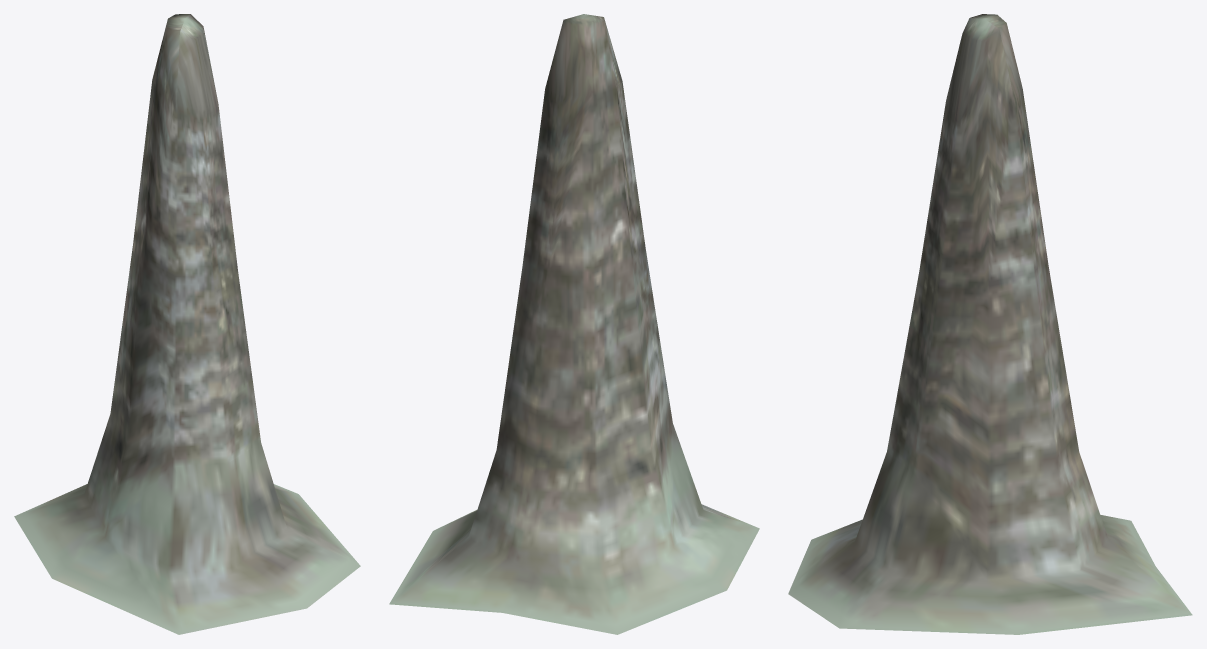
File: TROLLHOLE02_PS-MAINSTALAG41.fbx
The picture shows the model from 3 angles, left to right: view 1: azimuth 30°, elevation 25°; view 2: azimuth 150°, elevation 25°; view 3: azimuth 270°, elevation 25°; orthographic projection. The views are drawn at different scales.
Visible parts, largest first — view 1: TROLLHOLE02_PS-MAINSTALAG41; view 2: TROLLHOLE02_PS-MAINSTALAG41; view 3: TROLLHOLE02_PS-MAINSTALAG41.
Part boxes in pixels (x1,y1,x2,y2): TROLLHOLE02_PS-MAINSTALAG41: (14, 14, 360, 634); TROLLHOLE02_PS-MAINSTALAG41: (389, 14, 759, 634); TROLLHOLE02_PS-MAINSTALAG41: (788, 14, 1192, 634).
Size of the model in its own units: 22559 by 43468 by 28157.
1 material, 1 textured.
